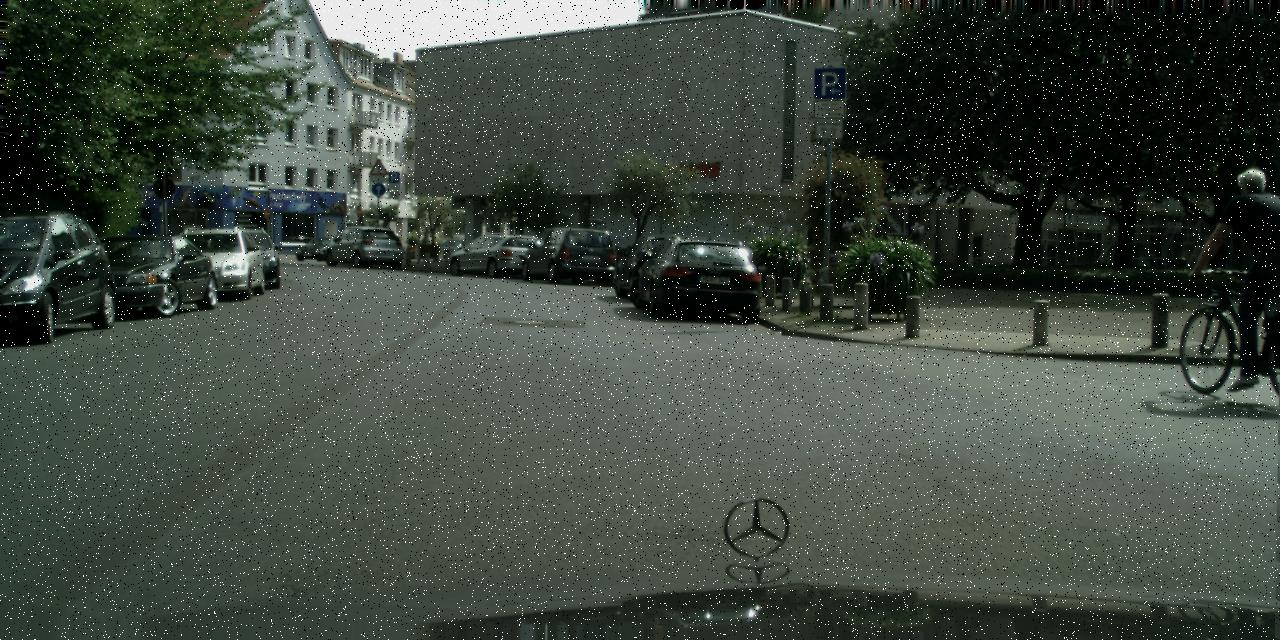ped: (1218, 168, 1279, 371)
